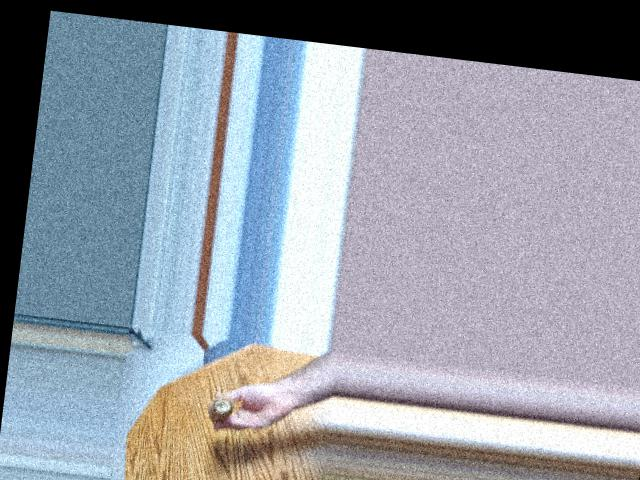sweet_potato: (203, 391, 234, 417)
